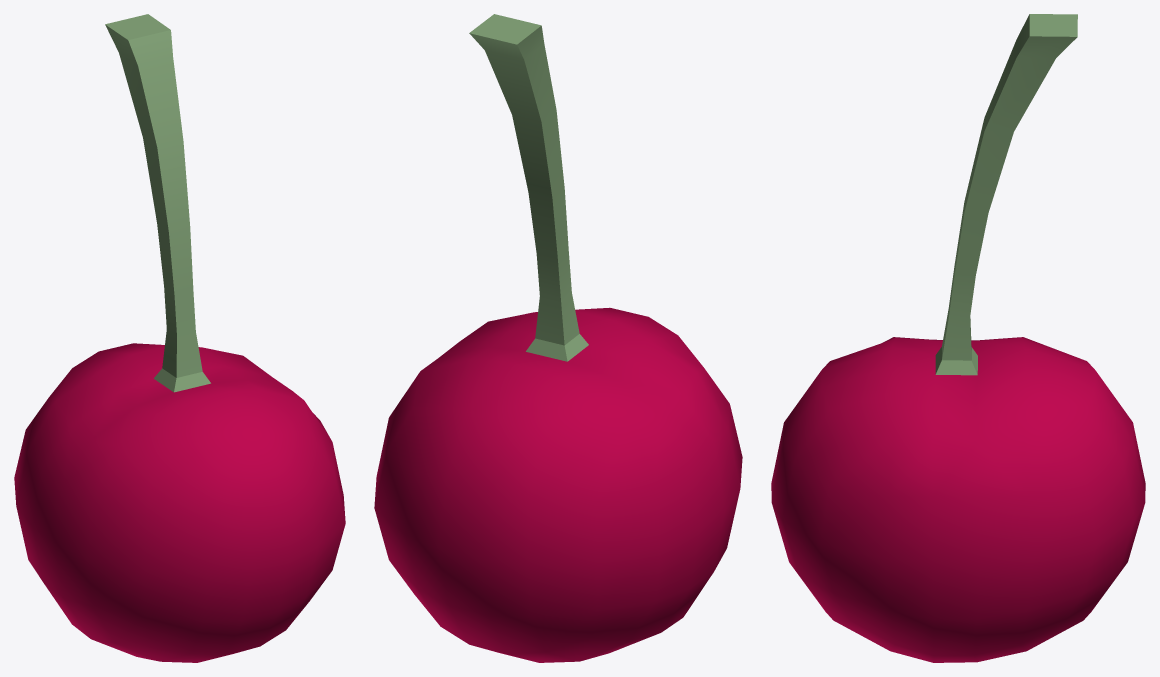
File: cherry.fbx
3 views of the same model, side by side, from view 1: azimuth 30°, elevation 25°; view 2: azimuth 150°, elevation 25°; view 3: azimuth 270°, elevation 25° (orthographic). The views are drawn at different scales.
Visible parts, largest first — view 1: pCube1; view 2: pCube1; view 3: pCube1.
Part boxes in pixels (x1=…): pCube1: x1=14, y1=14, x2=345, y2=662; pCube1: x1=374, y1=14, x2=742, y2=662; pCube1: x1=771, y1=14, x2=1145, y2=662.
Bounding box in the file's own units: 0.8785 × 1.78 × 0.9731.
